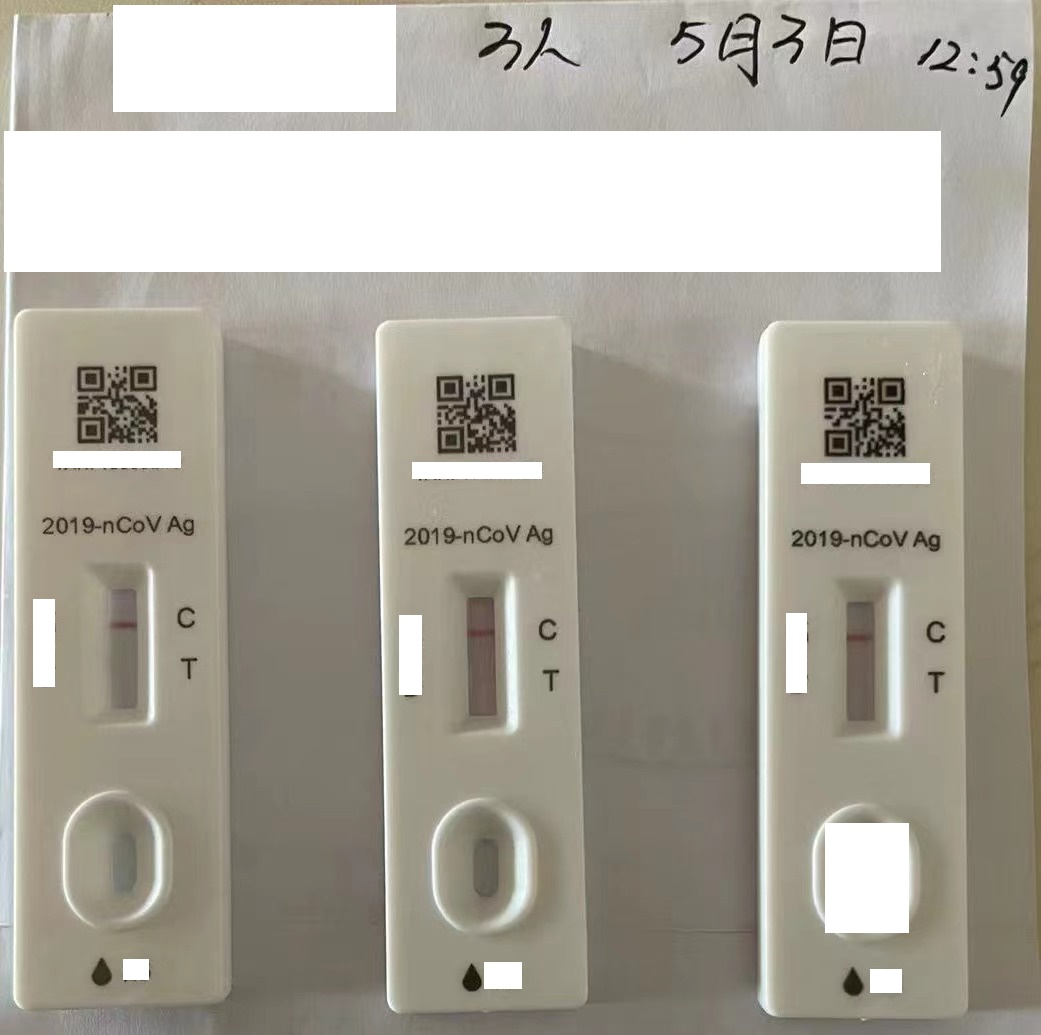negative: (83, 561, 158, 728), (832, 573, 905, 736), (448, 569, 515, 733)
